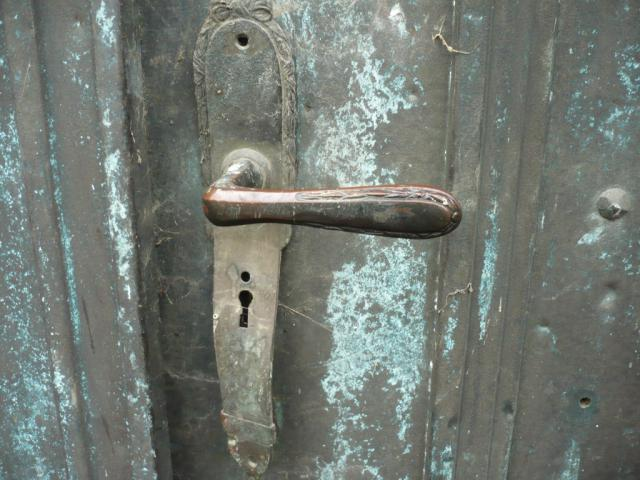Door-handle: (190, 0, 464, 480)
